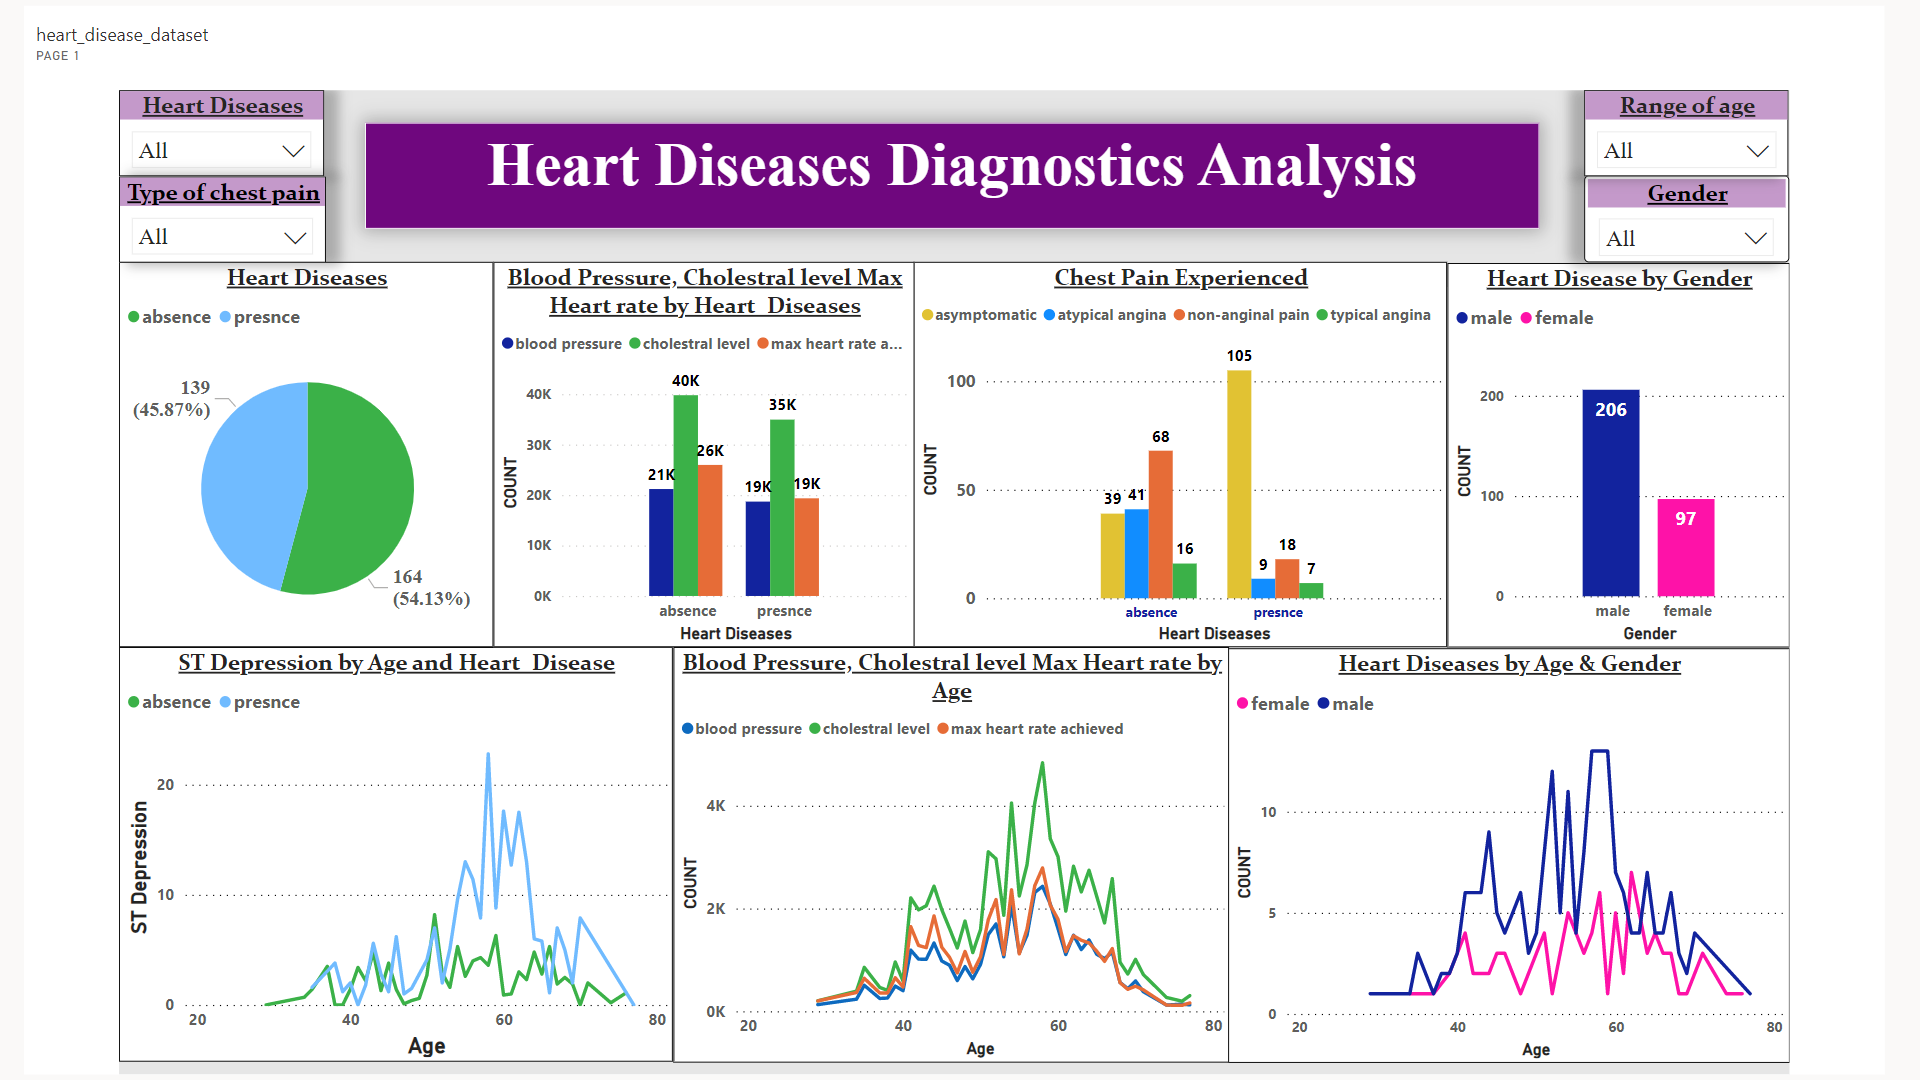

What the dashboard file says about the page in this screenshot:
{"tool":"powerbi","page":{"name":"Page 1","canvas":[1460,860],"ordinal":0},"visuals":[{"type":"pieChart","title":"Heart Disease","fields":{"Category":["my_data.heart_disease"],"Y":["CountNonNull(my_data.heart_disease)"]},"box":[0,149.5,326.8,337.1],"z":0},{"type":"lineChart","title":"Heart Disease by Age & Gender","fields":{"Category":["my_data.age"],"Series":["my_data.gender"],"Y":["CountNonNull(my_data.heart_disease)"]},"box":[968.8,488.1,491,362],"z":1000},{"type":"columnChart","title":"Heart Disease by Gender","fields":{"Category":["my_data.gender"],"Y":["CountNonNull(my_data.heart_disease)"],"Series":["my_data.gender"]},"box":[1160.8,151,299,335.6],"z":2000},{"type":"clusteredColumnChart","title":"Chest Pain Experienced","fields":{"Y":["CountNonNull(my_data.cp)"],"Series":["my_data.Chest_pain_type"],"Category":["my_data.heart_disease"]},"box":[694.7,149.5,466.1,337.1],"z":3000},{"type":"lineChart","title":"ST Depression by Age and Heart_Disease","fields":{"Category":["my_data.age"],"Series":["my_data.heart_disease"],"Y":["Sum(my_data.oldpeak)"]},"box":[0,486.6,483.7,362],"z":4000},{"type":"clusteredColumnChart","title":"Blood Pressure, Cholestral level  Max Heart rate  by Heart_Disease","fields":{"Category":["my_data.heart_disease"],"Y":["Sum(my_data.blood pressure)","Sum(my_data.cholestral level)","Sum(my_data.max heart rate achieved)"]},"box":[326.8,149.5,367.9,337.1],"z":5000},{"type":"textbox","box":[215,28,1026,93],"z":6000},{"type":"slicer","title":"Gender","fields":{"Values":["my_data.gender"]},"box":[1281,74.7,178.8,76.2],"z":7000},{"type":"slicer","title":"Range of age","fields":{"Values":["my_data.ageRange"]},"box":[1280.6,0,178.6,74.9],"z":8000},{"type":"slicer","title":"Heart Disease","fields":{"Values":["my_data.heart_disease"]},"box":[0,0,179.4,75.4],"z":9000},{"type":"slicer","title":"Type of chest pain","fields":{"Values":["my_data.Chest_pain_type"]},"box":[0,75.4,180.9,75.4],"z":10000},{"type":"lineChart","title":"Blood Pressure, Cholestral level  Max Heart rate  by Age","fields":{"Category":["my_data.age"],"Y":["Sum(my_data.blood pressure)","Sum(my_data.cholestral level)","Sum(my_data.max heart rate achieved)"]},"box":[484,486.9,485.5,363],"z":11000}]}

Visuals, with their boxes on the page's 1460x860 design canvas (x1, y1, x2, y2). These are canvas units, not pixel positions in the 1920x1080 screenshot, which may show the page scaled, cropped or inside an application window:
"Heart Disease" pieChart: 0:150:327:487
"Heart Disease by Age & Gender" lineChart: 969:488:1460:850
"Heart Disease by Gender" columnChart: 1161:151:1460:487
"Chest Pain Experienced" clusteredColumnChart: 695:150:1161:487
"ST Depression by Age and Heart_Disease" lineChart: 0:487:484:849
"Blood Pressure, Cholestral level  Max Heart rate  by Heart_Disease" clusteredColumnChart: 327:150:695:487
textbox: 215:28:1241:121
"Gender" slicer: 1281:75:1460:151
"Range of age" slicer: 1281:0:1459:75
"Heart Disease" slicer: 0:0:179:75
"Type of chest pain" slicer: 0:75:181:151
"Blood Pressure, Cholestral level  Max Heart rate  by Age" lineChart: 484:487:970:850
